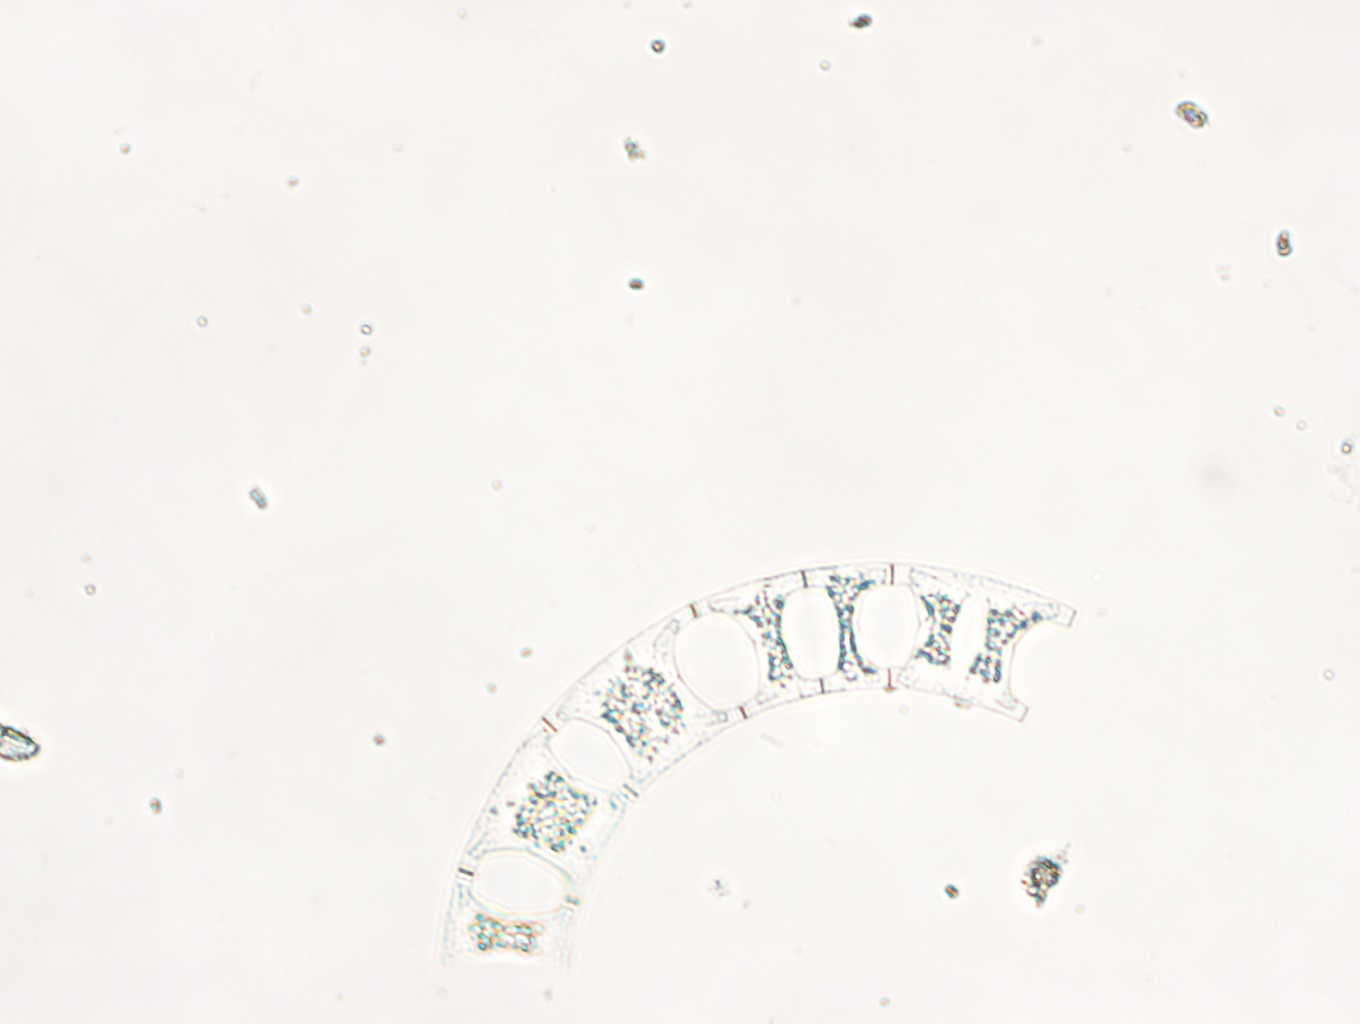eucampia: (442, 559, 1077, 982)
